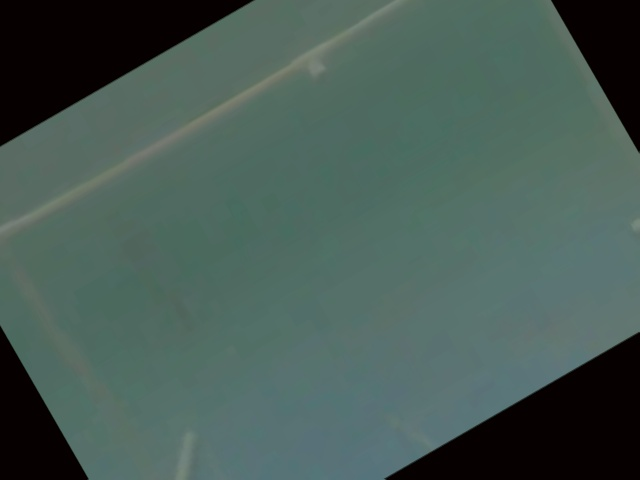gate: (7, 0, 407, 479)
